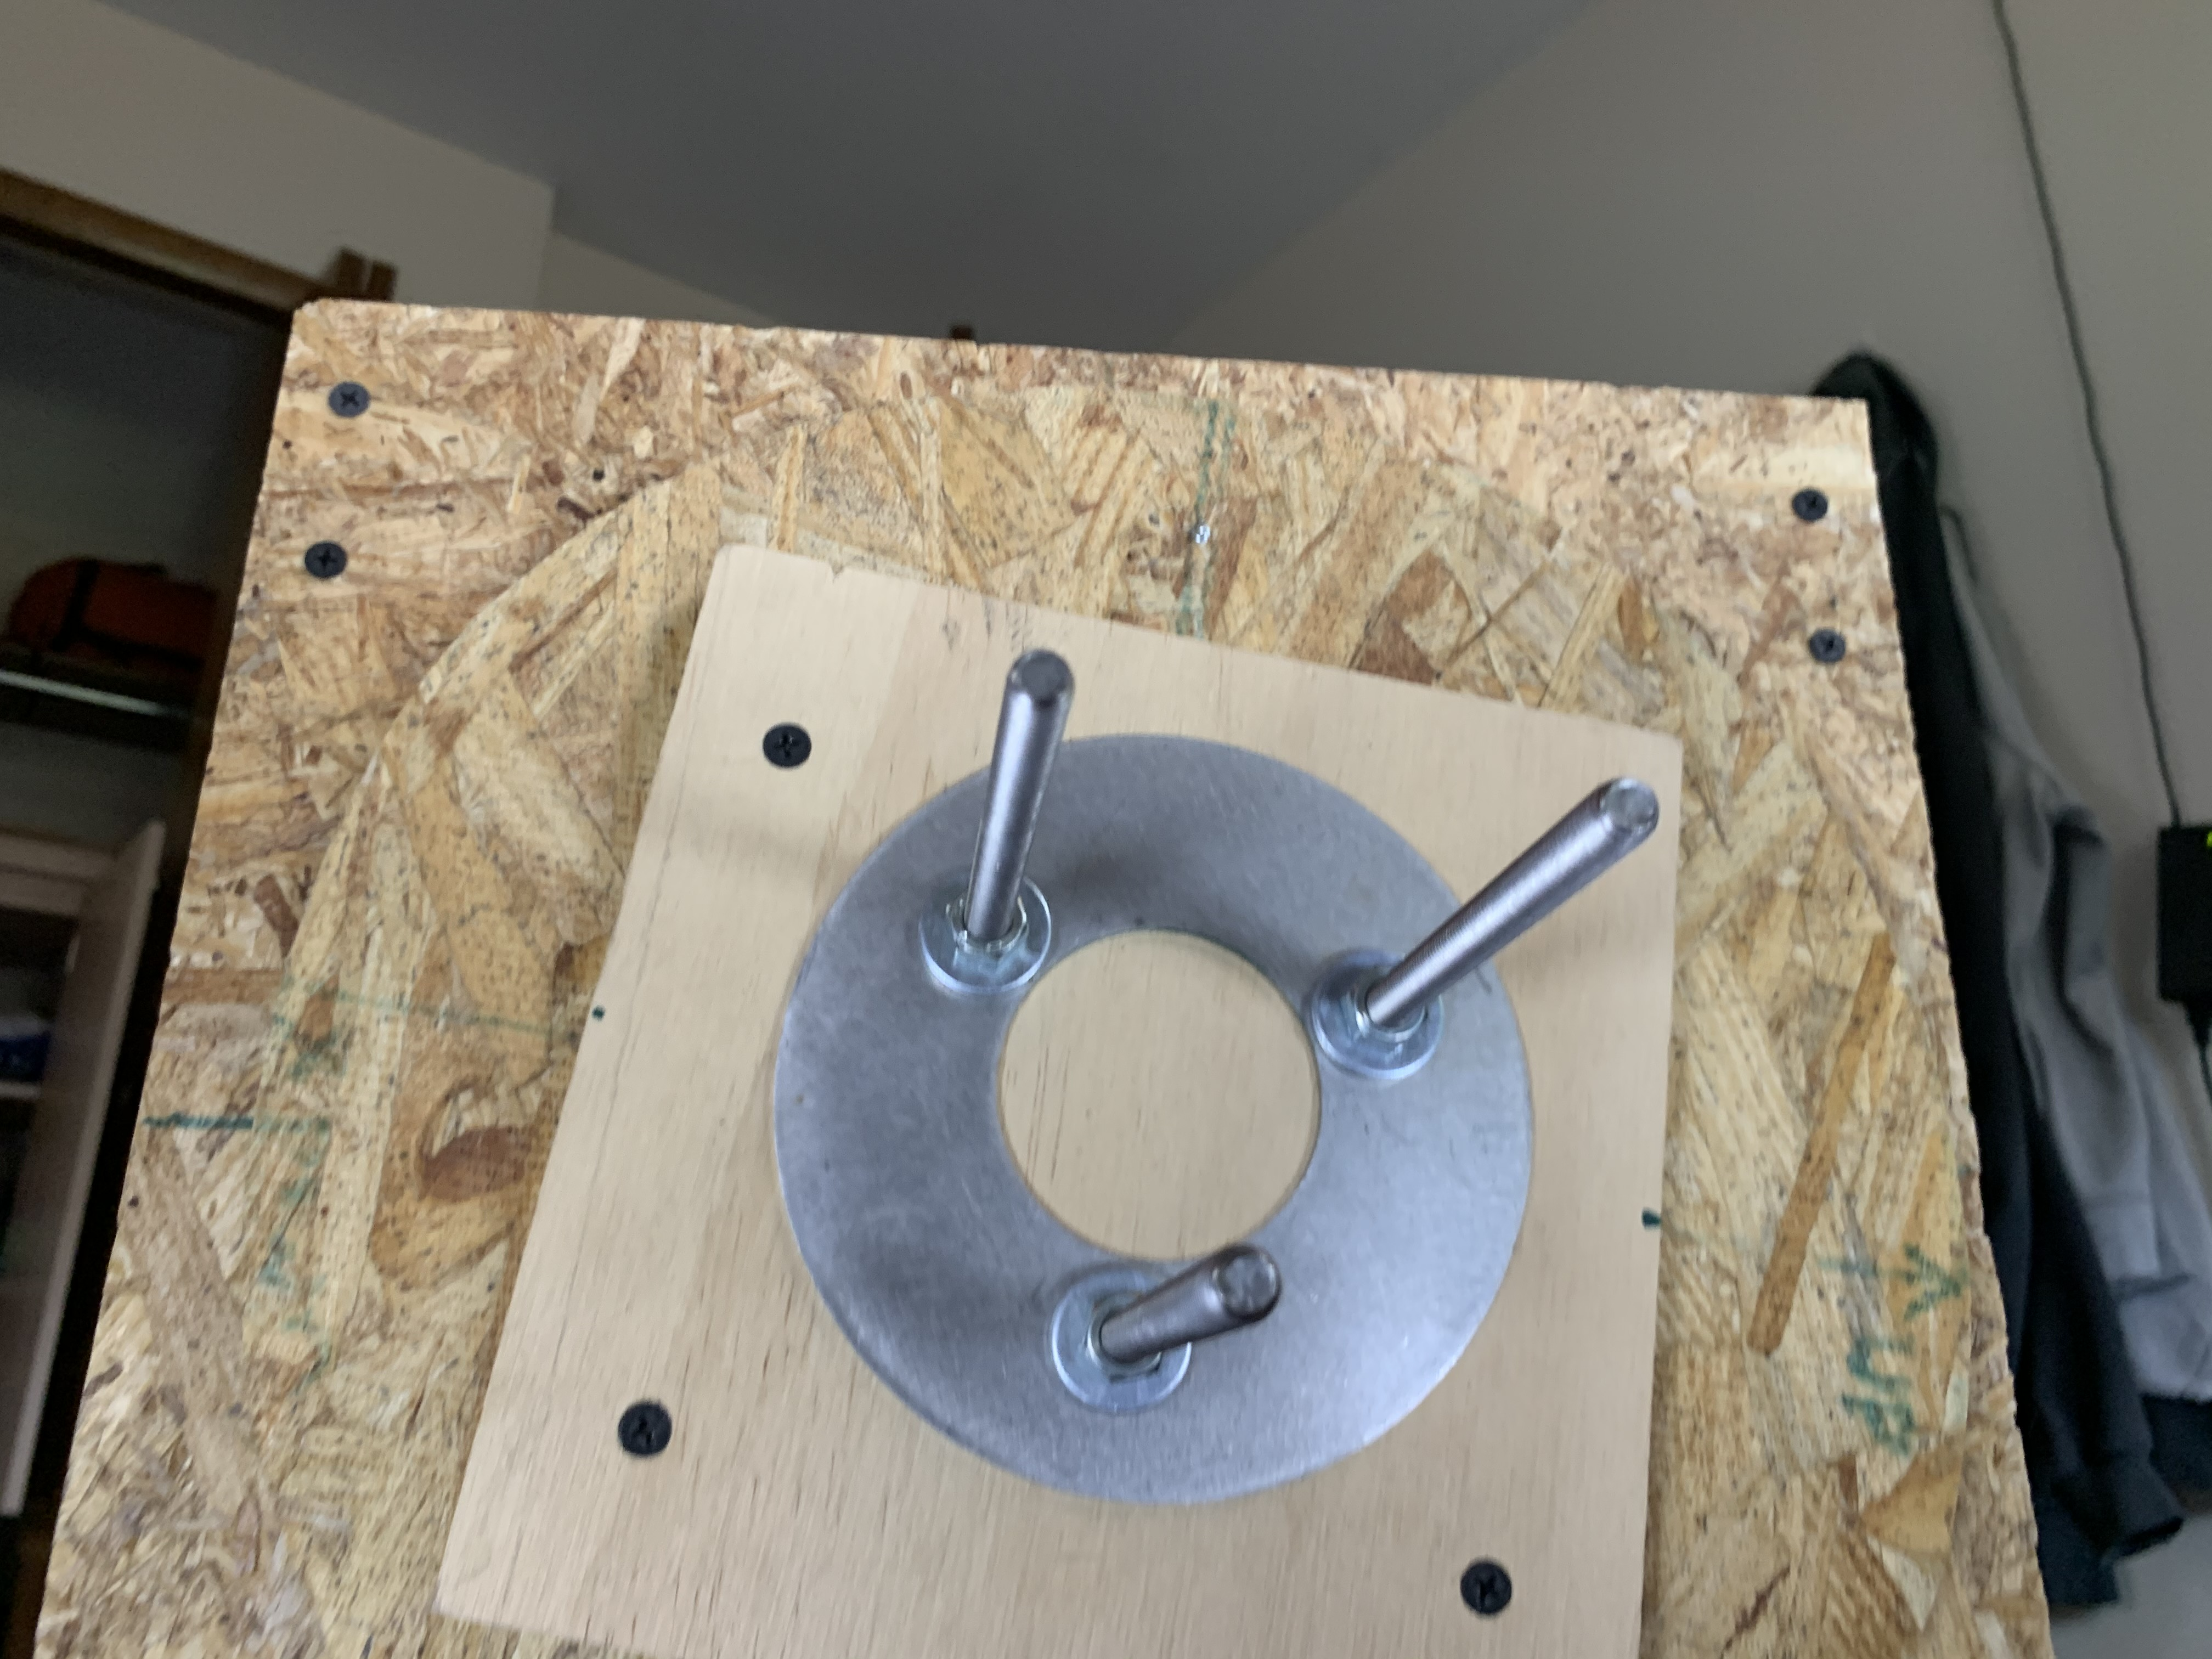bolt: (1049, 1263, 1197, 1419), (1305, 945, 1451, 1086), (914, 864, 1054, 1007)
